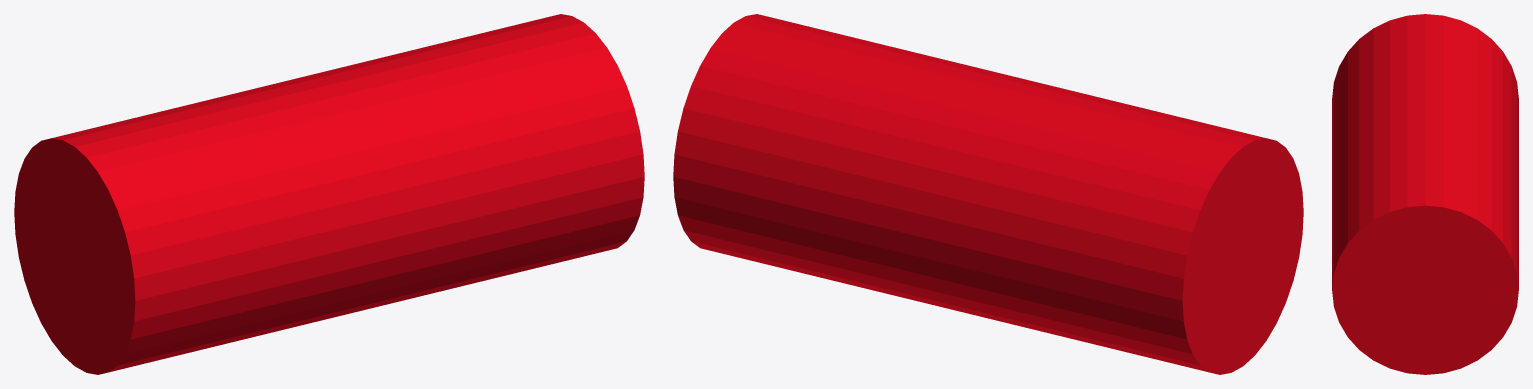
The model's file is Robot Upper Arm Left.fbx.
3 renders of one model, left to right at view 1: azimuth 30°, elevation 25°; view 2: azimuth 150°, elevation 25°; view 3: azimuth 270°, elevation 25°, orthographic. The views are drawn at different scales.
Parts seen in each view (by area): view 1: Cylinder.004; view 2: Cylinder.004; view 3: Cylinder.004.
Boxes of the visible parts, x1,y1,x2,y2 form: Cylinder.004: (14, 14, 644, 374); Cylinder.004: (673, 14, 1303, 374); Cylinder.004: (1332, 14, 1518, 374).
Size of the model in its own units: 340 by 140 by 140.
